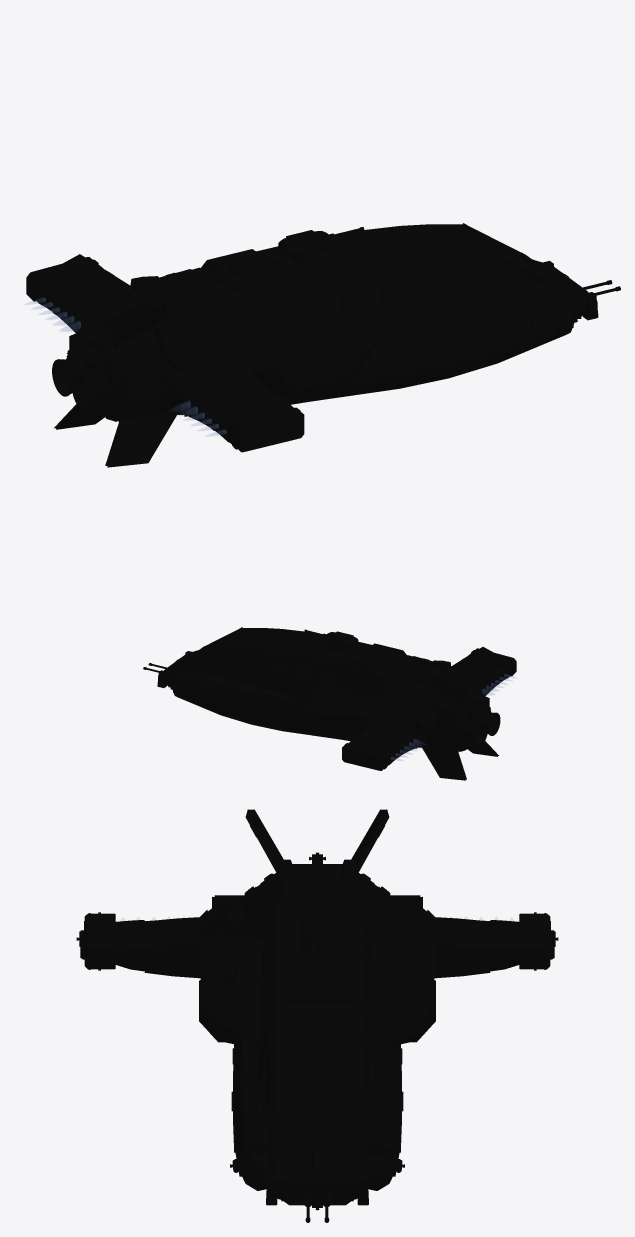
The model's file is plume_ion_occ.glb.
The picture shows the model from 3 angles, top to bottom: view 1: azimuth 30°, elevation 25°; view 2: azimuth 150°, elevation 25°; view 3: azimuth 270°, elevation 25°; orthographic projection. The views are drawn at different scales.
Visible parts, largest first — view 1: HullOccluder; view 2: HullOccluder; view 3: HullOccluder.
Part boxes in pixels (x1,y1,x2,y2): HullOccluder: (26,223,620,467); HullOccluder: (143,627,516,780); HullOccluder: (76,809,558,1222).
Bounding box in the file's own units: 18.25 × 5.33 × 12.99.
Materials: 2 (1 with a texture image).
